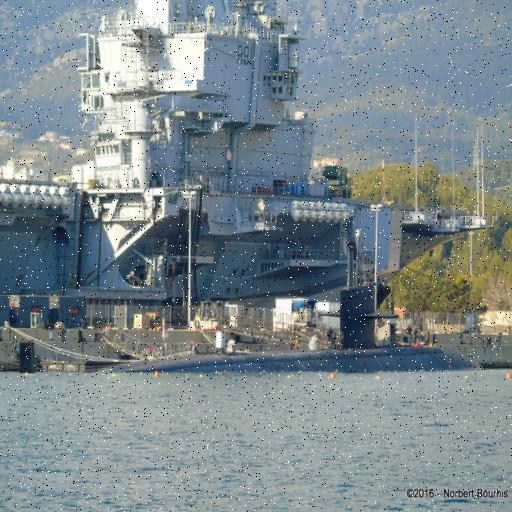submarine: (103, 281, 497, 377)
